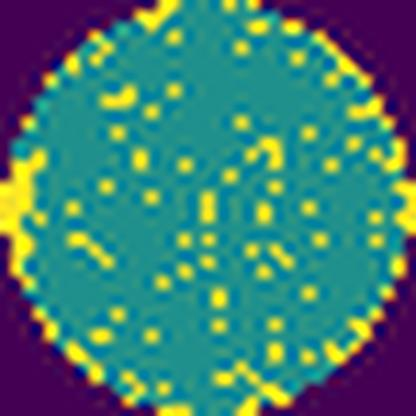Edge-Loc: (0, 148, 51, 287), (390, 182, 416, 240)
